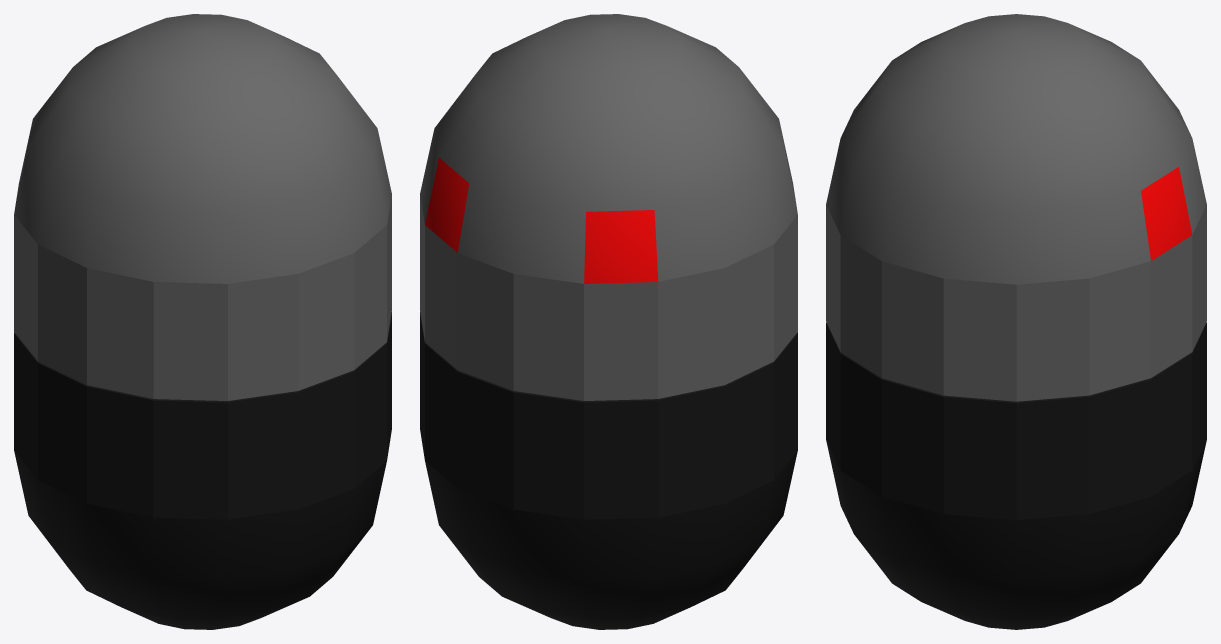
Rendered from bot.FBX.
The picture shows the model from 3 angles, left to right: view 1: azimuth 30°, elevation 25°; view 2: azimuth 150°, elevation 25°; view 3: azimuth 270°, elevation 25°; orthographic projection.
Visible parts, largest first — view 1: Sphere001, Sphere002; view 2: Sphere001, Sphere002; view 3: Sphere001, Sphere002.
Part boxes in pixels (x1,y1,x2,y2): Sphere001: [14, 14, 391, 400]; Sphere002: [14, 312, 391, 629]; Sphere001: [420, 14, 797, 400]; Sphere002: [420, 312, 797, 629]; Sphere001: [826, 14, 1206, 401]; Sphere002: [826, 322, 1206, 629].
Size of the model in its own units: 29.5 by 49.62 by 29.5.
